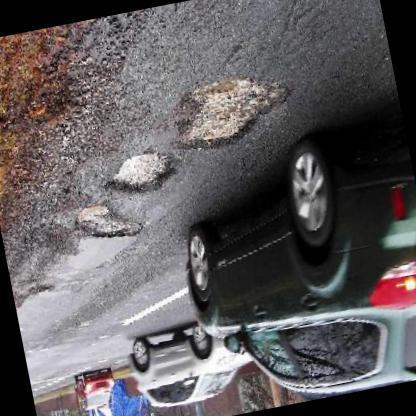pothole: (172, 74, 300, 152), (106, 147, 182, 194), (76, 204, 140, 240)
